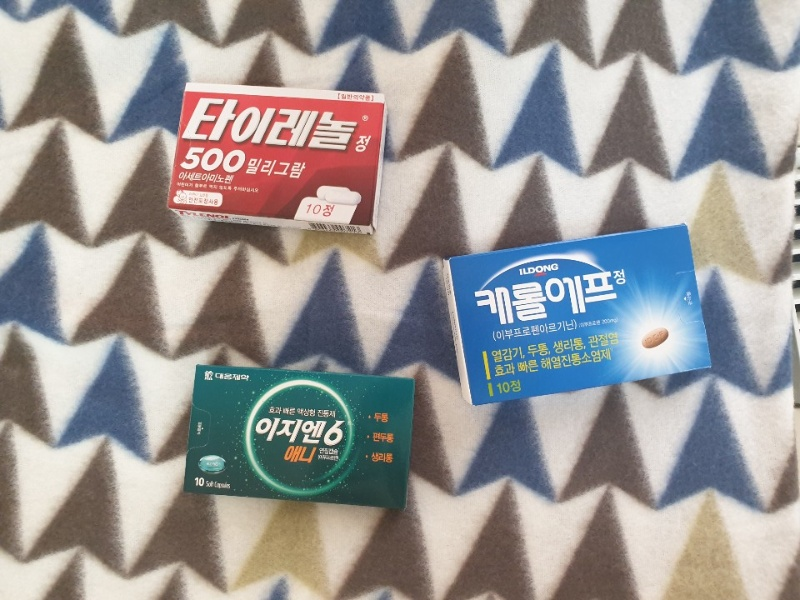carolF: (441, 223, 712, 406)
ezn: (183, 364, 416, 508)
tylenol: (166, 83, 386, 237)
